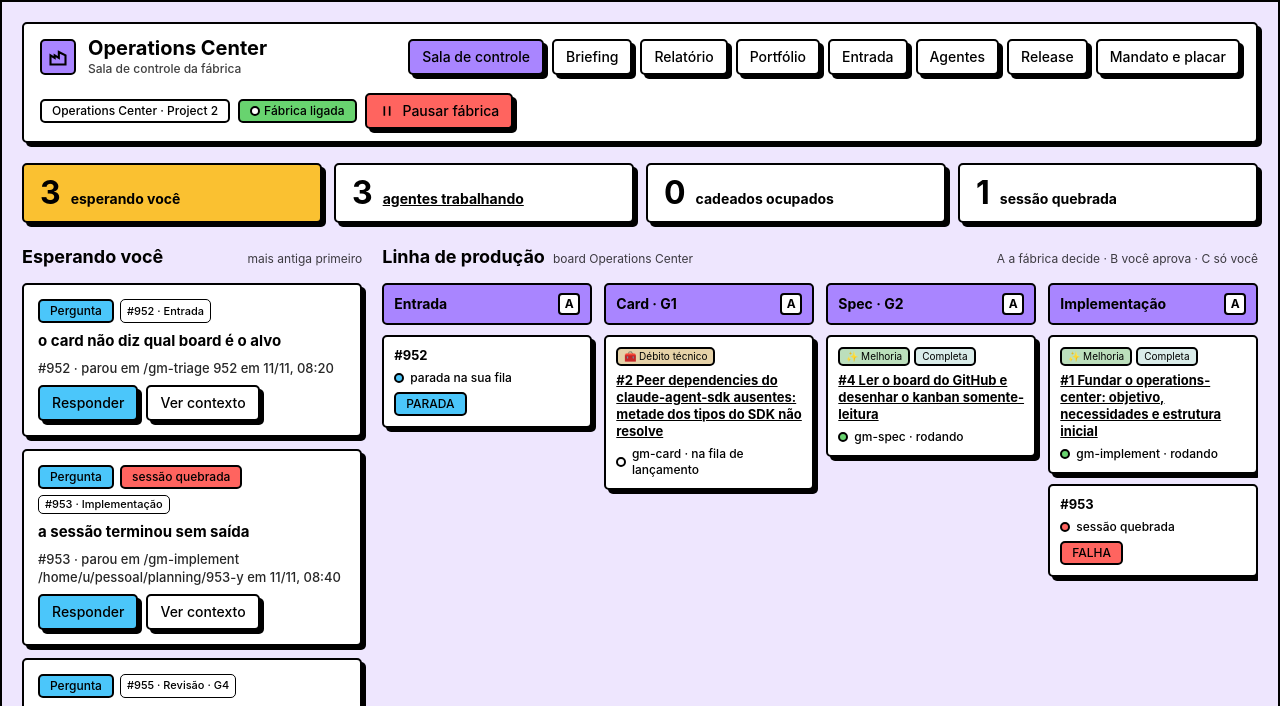
Test: Agentes · sessões da fábrica › Responder leva à pergunta do item
The width and height of the screenshot is (1280, 706).
Click the button with test id "fabrica-nav-agentes": {"x": 957, "y": 56} [916, 38, 999, 74]
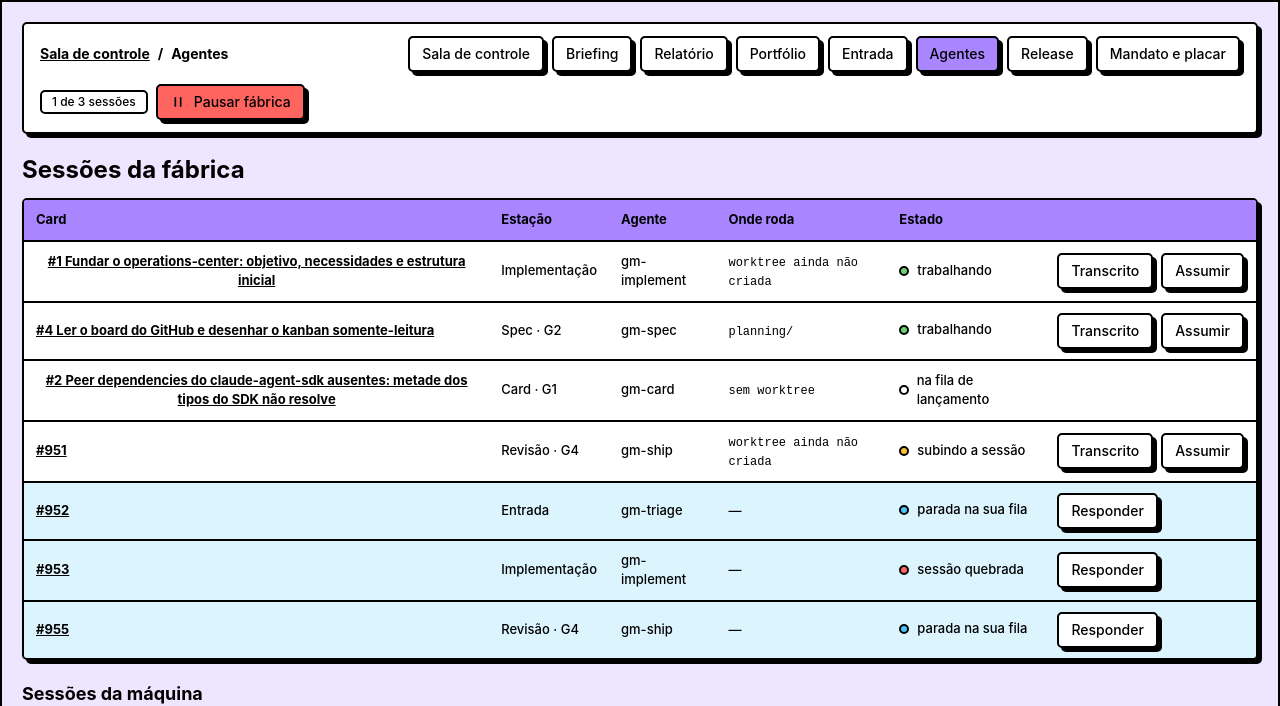
Check: the text "Peer dependencies" is shown, box [36, 370, 477, 410]
Click the button with test id "fabrica-agentes-responder": {"x": 1108, "y": 510} [1057, 492, 1158, 528]
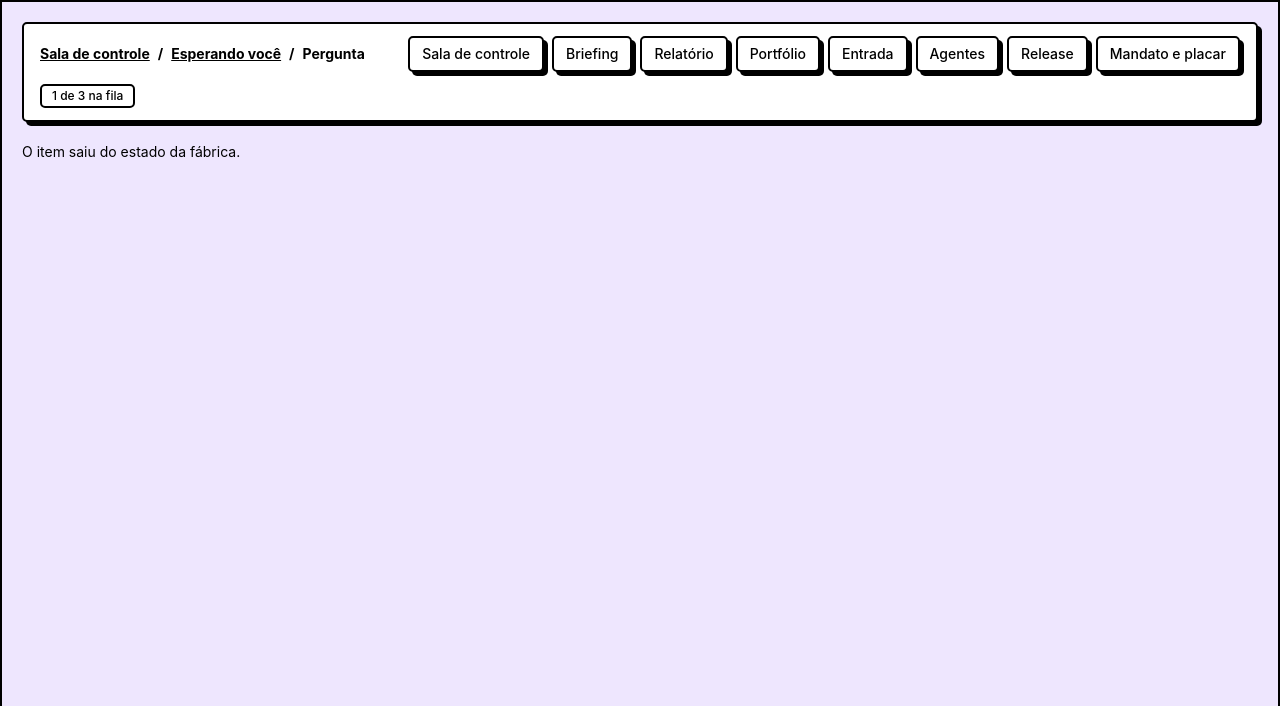
Check: the navigation bar with test id "fabrica-trilha" shows "Pergunta", box [302, 45, 365, 62]
